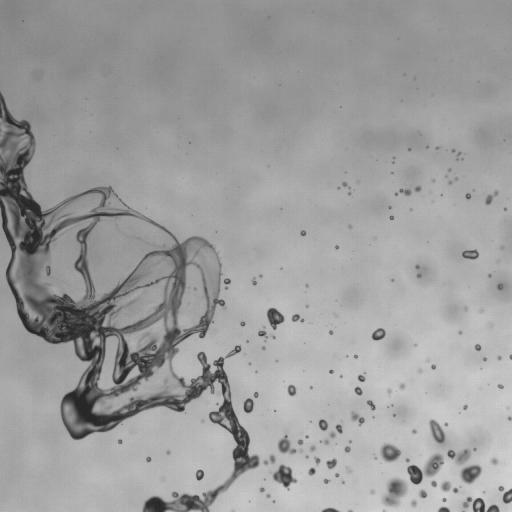droplet: (381, 477, 408, 506), (272, 464, 296, 489), (460, 464, 481, 484), (447, 448, 471, 465), (266, 307, 284, 329), (380, 443, 400, 462), (278, 434, 296, 454), (498, 486, 511, 503), (462, 249, 478, 259), (372, 328, 385, 340), (243, 398, 253, 413), (258, 326, 268, 339), (263, 454, 275, 464), (326, 458, 336, 469), (287, 384, 296, 396), (318, 419, 327, 430), (366, 400, 375, 410), (399, 188, 411, 195), (291, 314, 303, 321), (196, 469, 203, 480), (419, 489, 427, 498), (354, 387, 362, 395), (321, 438, 329, 445), (308, 467, 315, 475), (358, 374, 365, 381), (491, 458, 498, 465), (314, 457, 320, 464), (410, 500, 416, 507), (475, 344, 481, 350), (344, 446, 350, 452), (414, 186, 421, 191), (431, 480, 436, 487), (342, 182, 348, 187), (465, 193, 470, 199), (300, 230, 306, 235), (399, 383, 404, 389), (297, 439, 303, 444), (310, 445, 315, 451), (252, 278, 256, 285), (387, 388, 391, 395), (497, 284, 502, 289), (240, 321, 245, 326), (259, 487, 264, 492), (270, 334, 275, 338), (431, 364, 435, 369), (498, 384, 503, 388), (254, 392, 258, 397), (324, 479, 329, 483), (370, 489, 374, 494), (417, 273, 421, 277), (497, 356, 501, 360), (463, 405, 467, 409), (507, 416, 511, 420), (412, 429, 416, 433), (118, 439, 122, 443), (166, 450, 170, 454), (146, 457, 150, 461), (405, 458, 409, 462), (335, 473, 339, 477), (457, 153, 460, 157), (415, 265, 419, 268), (329, 330, 332, 334), (458, 330, 461, 334), (329, 370, 333, 373), (266, 494, 270, 497), (442, 498, 446, 501), (509, 354, 511, 359), (448, 181, 451, 184), (390, 216, 393, 219), (335, 245, 338, 248), (58, 283, 61, 286), (193, 287, 196, 290), (464, 307, 467, 310), (262, 346, 265, 349), (347, 468, 350, 471), (348, 509, 352, 511), (452, 149, 454, 152), (455, 177, 457, 180), (348, 225, 351, 227), (488, 274, 491, 276), (305, 284, 308, 286), (354, 355, 357, 357), (483, 358, 486, 360), (419, 369, 421, 372), (444, 423, 447, 425), (436, 147, 438, 149), (395, 193, 397, 195), (504, 208, 506, 210), (187, 302, 189, 304), (125, 314, 127, 316), (310, 386, 312, 388)
ligament: (0, 91, 259, 511), (406, 454, 444, 484), (462, 496, 499, 511), (429, 419, 445, 443), (440, 480, 460, 493), (350, 411, 364, 425), (485, 190, 498, 204), (329, 424, 342, 438), (321, 507, 339, 511), (224, 278, 230, 289), (437, 506, 450, 511), (133, 236, 142, 240), (382, 510, 386, 511)
